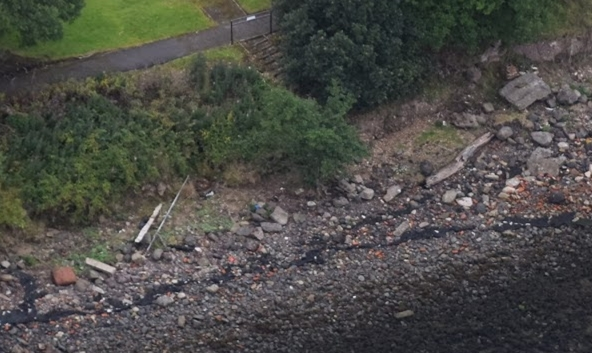straight_bar: (130, 199, 167, 254)
white_in_green: (34, 245, 92, 302)
